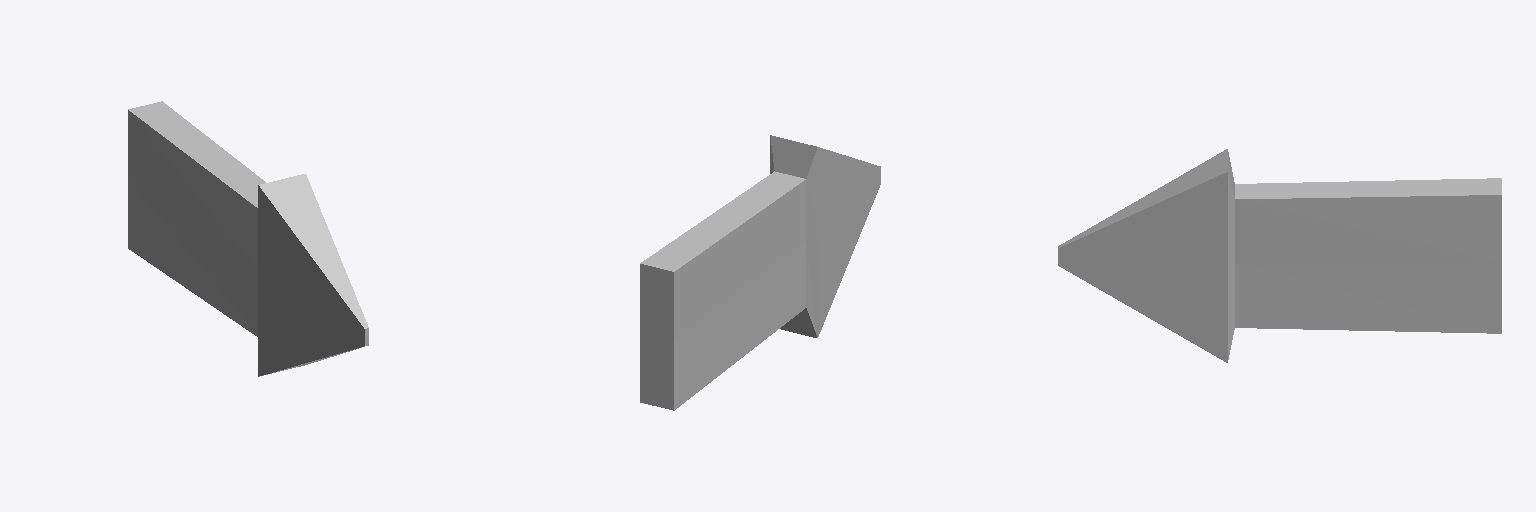
File: Arrow.obj
3 renders of one model, left to right at view 1: azimuth 30°, elevation 25°; view 2: azimuth 150°, elevation 25°; view 3: azimuth 270°, elevation 25°, orthographic.
Parts seen in each view (by area): view 1: Arrow_Plane.001; view 2: Arrow_Plane.001; view 3: Arrow_Plane.001.
Part boxes in pixels (left/top/right/bottom): Arrow_Plane.001: left=128, top=101, right=368, bottom=376; Arrow_Plane.001: left=640, top=135, right=880, bottom=410; Arrow_Plane.001: left=1058, top=149, right=1501, bottom=362.
Size of the model in its own units: 0.3327 by 1.29 by 2.7.